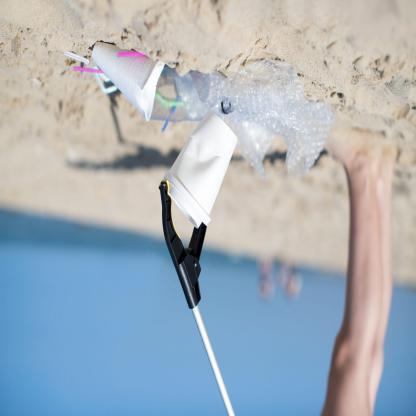Plastic: (180, 73, 335, 139), (166, 117, 239, 229), (90, 38, 168, 124)
